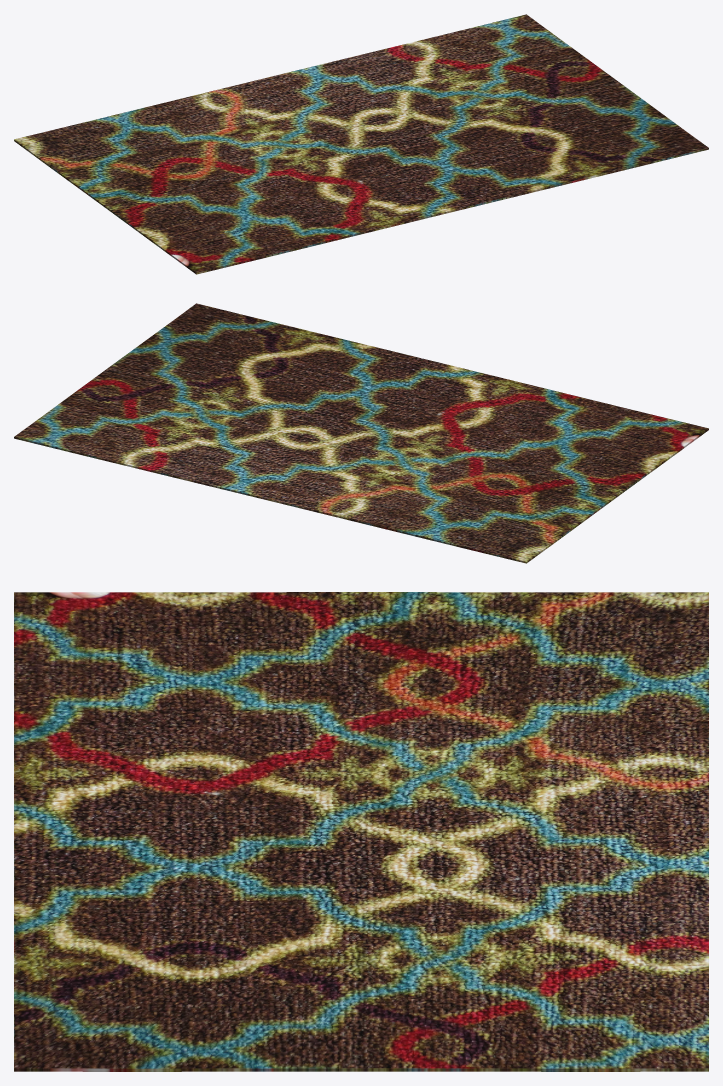
Rendered from carpet1.glb.
3 views of the same model, one above another, from view 1: azimuth 30°, elevation 25°; view 2: azimuth 150°, elevation 25°; view 3: azimuth 270°, elevation 25° (orthographic). The views are drawn at different scales.
Visible parts, largest first — view 1: carpet1; view 2: carpet1; view 3: carpet1.
Boxes of the visible parts, x1,y1,x2,y2 form: carpet1: (14, 14, 708, 274); carpet1: (14, 303, 708, 563); carpet1: (14, 592, 708, 1071).
Bounding box in the file's own units: 1.56 × 0.006 × 0.9622.
1 material, 1 textured.
